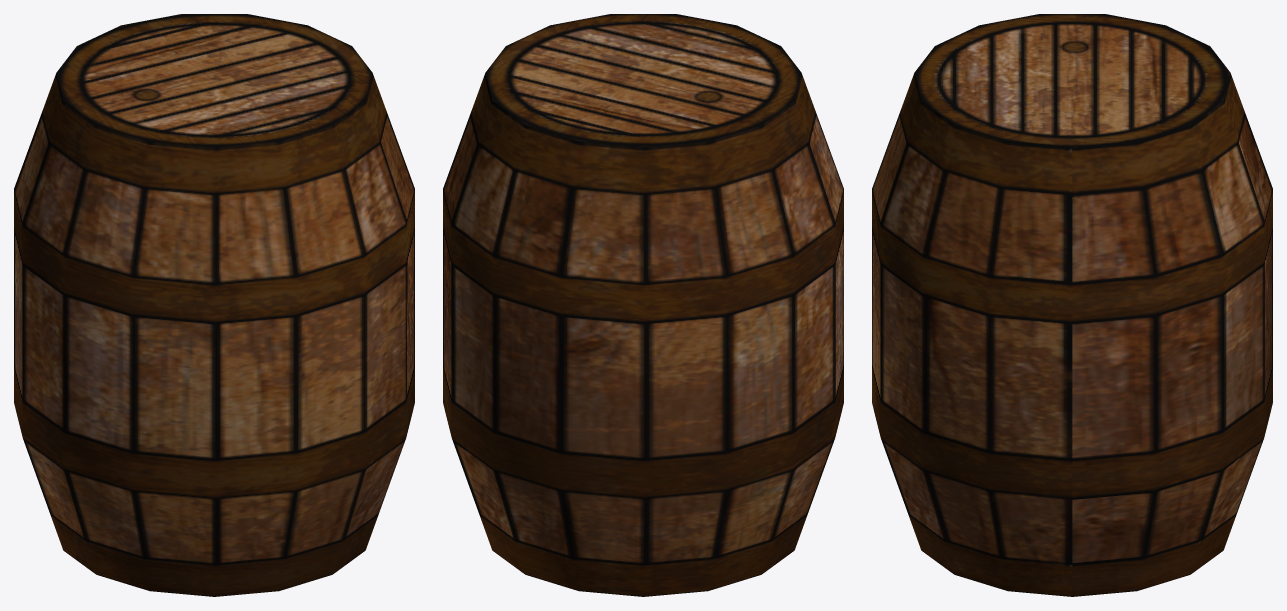
File: Barrel_01.FBX
3 renders of one model, left to right at view 1: azimuth 30°, elevation 25°; view 2: azimuth 150°, elevation 25°; view 3: azimuth 270°, elevation 25°, orthographic.
Visible parts, largest first — view 1: Cylinder001; view 2: Cylinder001; view 3: Cylinder001.
Part boxes in pixels (x1=…): Cylinder001: x1=14, y1=14, x2=414, y2=596; Cylinder001: x1=443, y1=14, x2=843, y2=596; Cylinder001: x1=872, y1=14, x2=1272, y2=596.
Bounding box in the file's own units: 20.07 × 25 × 20.18.
